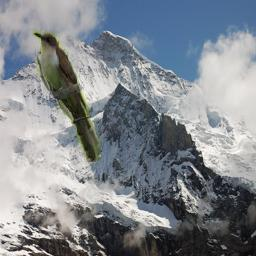Cuckoo: (33, 29, 102, 164)
